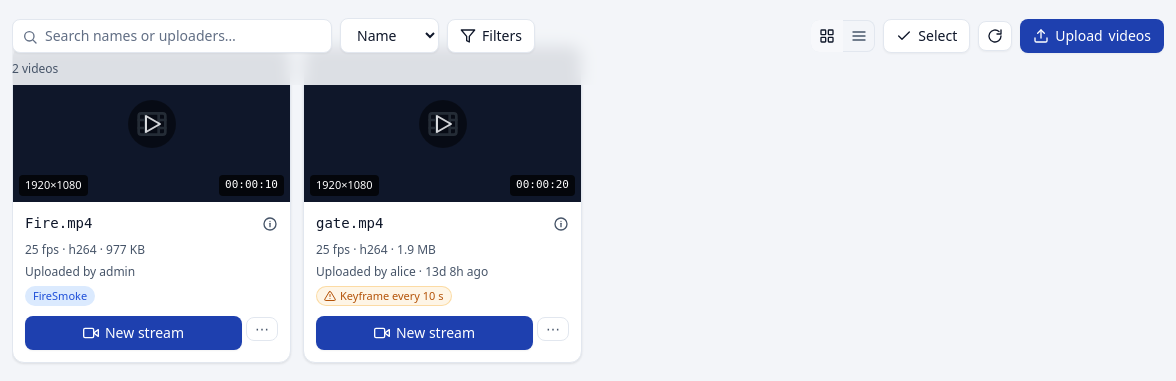
Scenario: VideoLibrary › switches to a compact list and remembers it
The width and height of the screenshot is (1176, 381).
Click the button named "List view".
click(859, 36)  # box [843,20,875,52]
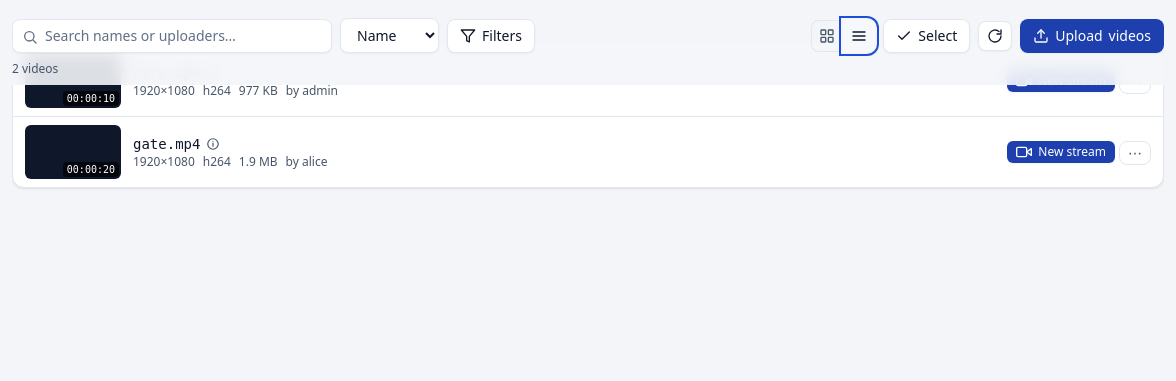
Expected: the text "by alice" is shown, [286,154,327,170]
Now the number of list items with test id "video-row" is 2, box [13,46,1163,116]; [13,116,1163,187]
Now the element with test id "thumb-box" is gone
